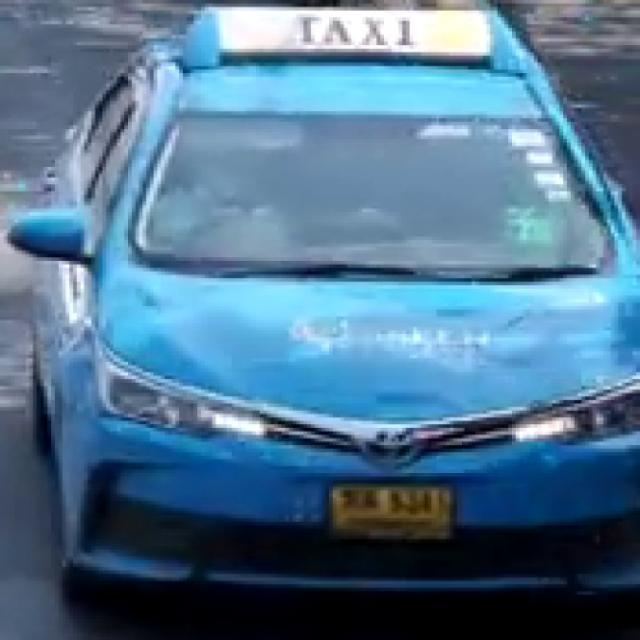plate: (330, 480, 457, 538)
